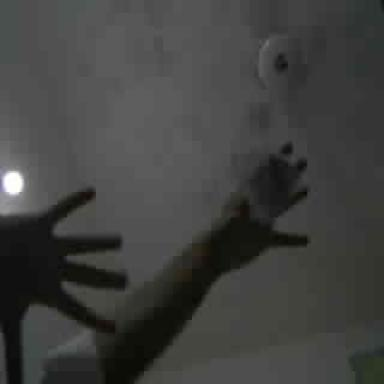paper: (241, 149, 300, 224)
